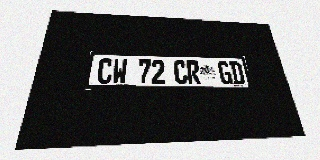2: (151, 60, 165, 84)
7: (137, 59, 151, 84)
C: (96, 58, 113, 84), (173, 60, 188, 84)
D: (229, 61, 245, 84)
G: (217, 61, 233, 84)
R: (186, 60, 201, 84)
W: (112, 59, 127, 84)
